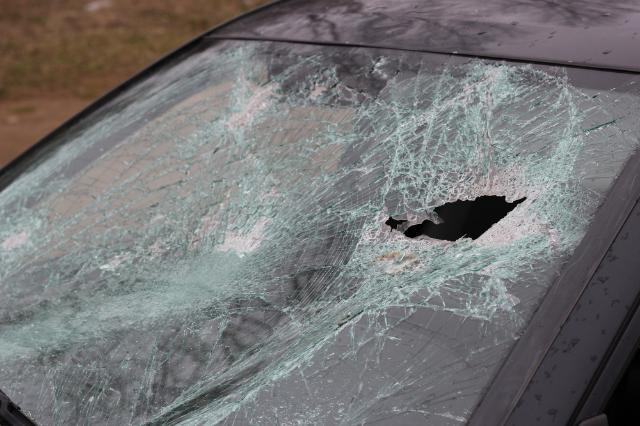glass shatter: (0, 37, 640, 426)
